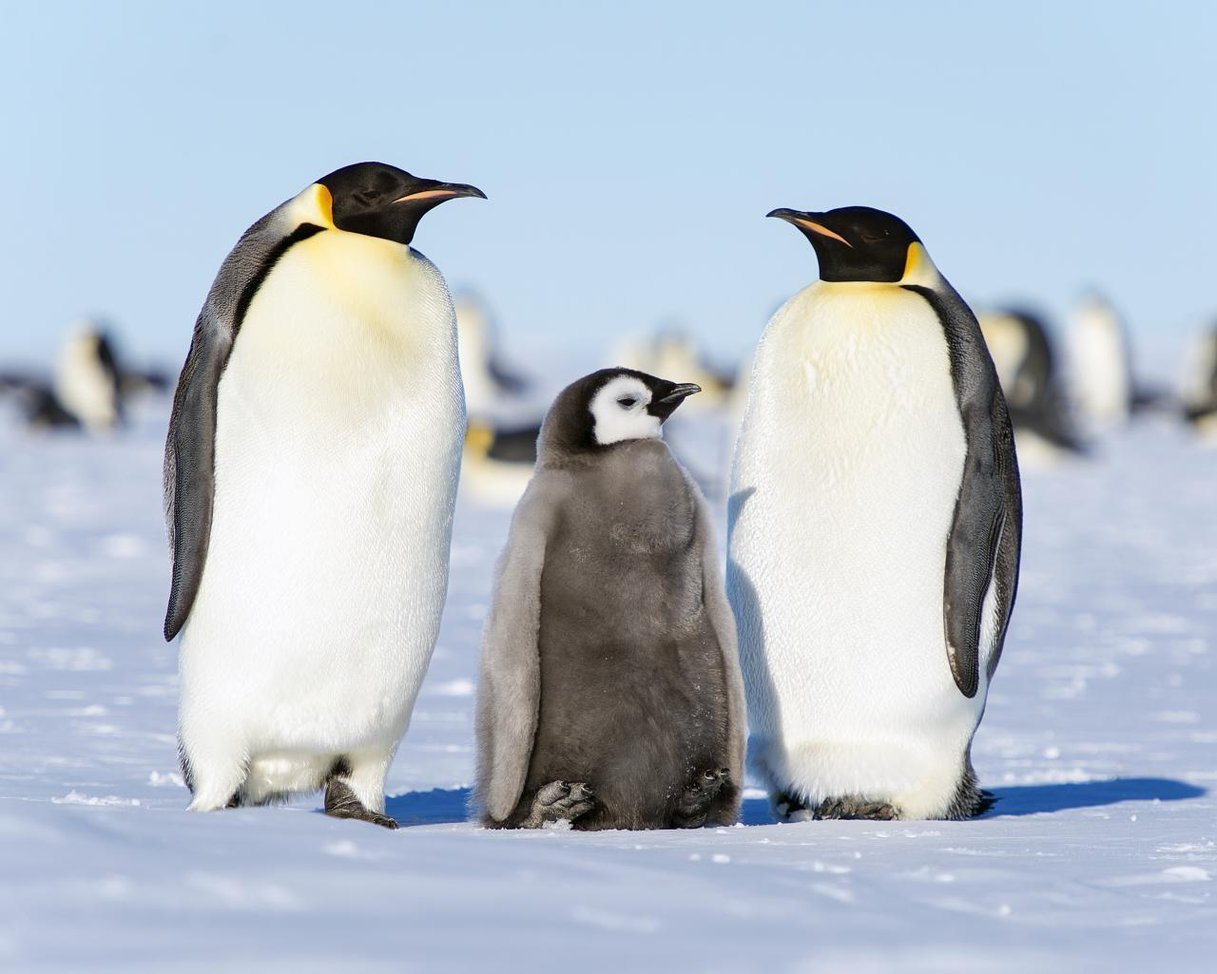Penguin: (164, 162, 488, 827), (725, 207, 1019, 820), (473, 369, 746, 830)
